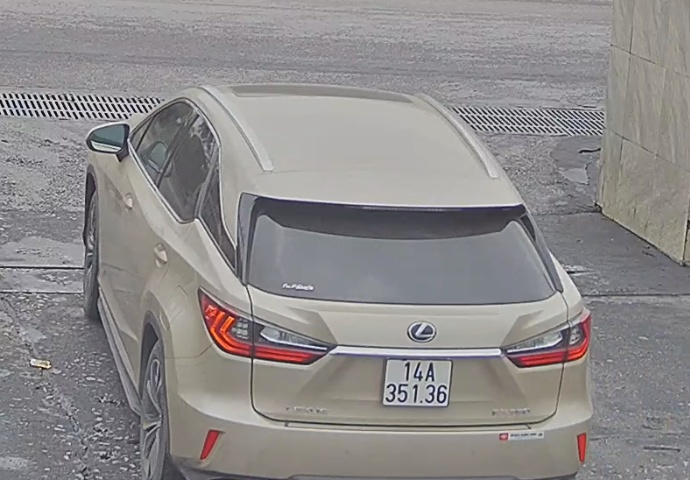vehicle plate: (381, 352, 453, 412)
